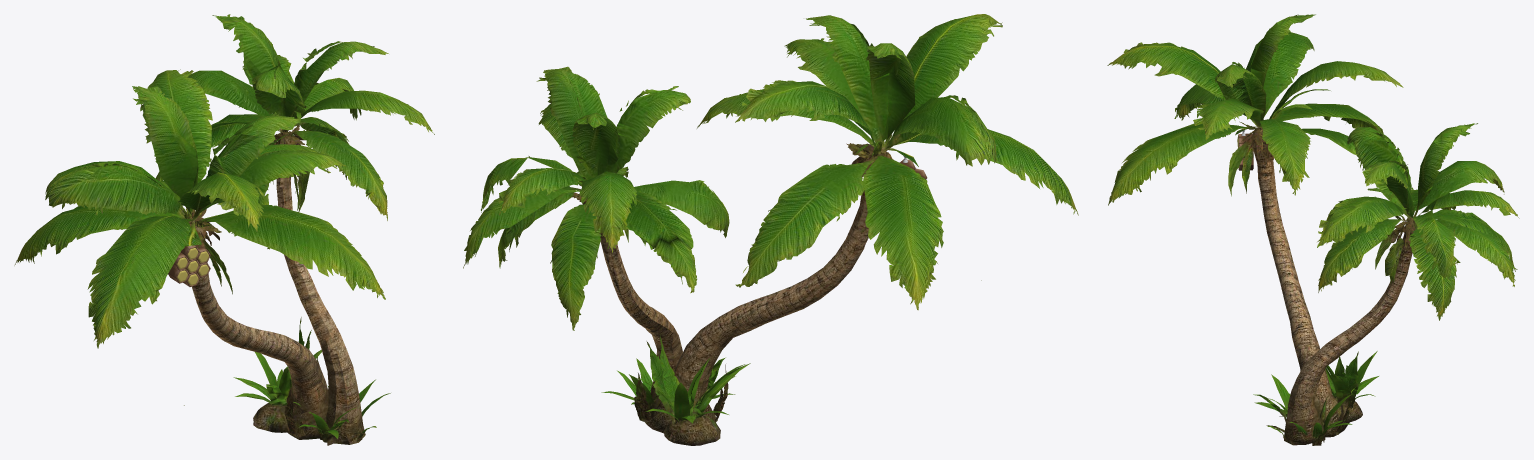
Rendered from coconut_new.fbx.
3 renders of one model, left to right at view 1: azimuth 30°, elevation 25°; view 2: azimuth 150°, elevation 25°; view 3: azimuth 270°, elevation 25°, orthographic. The views are drawn at different scales.
Parts seen in each view (by area): view 1: Model_0, Cylinder.010; view 2: Model_0; view 3: Model_0.
Boxes of the visible parts, x1,y1,x2,y2 form: Model_0: (14, 14, 434, 445); Cylinder.010: (168, 245, 210, 286); Model_0: (463, 14, 1078, 445); Model_0: (1107, 14, 1519, 445).
Bounding box in the file's own units: 363 × 330 × 363.
